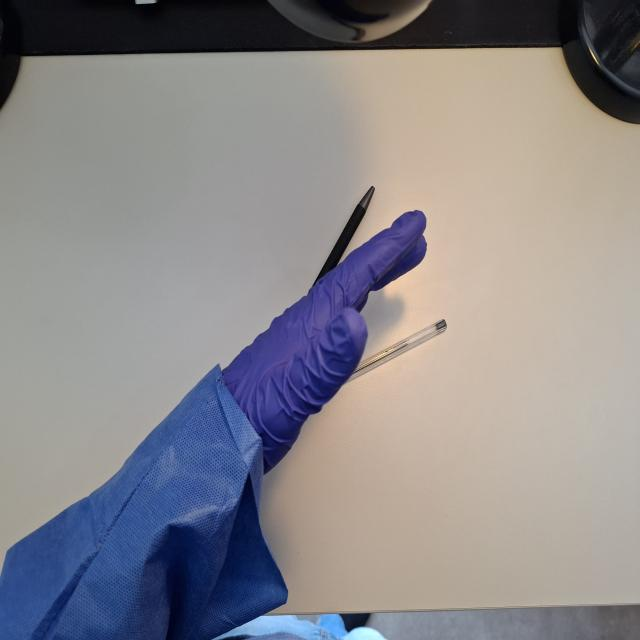glove_on: (207, 205, 430, 503)
